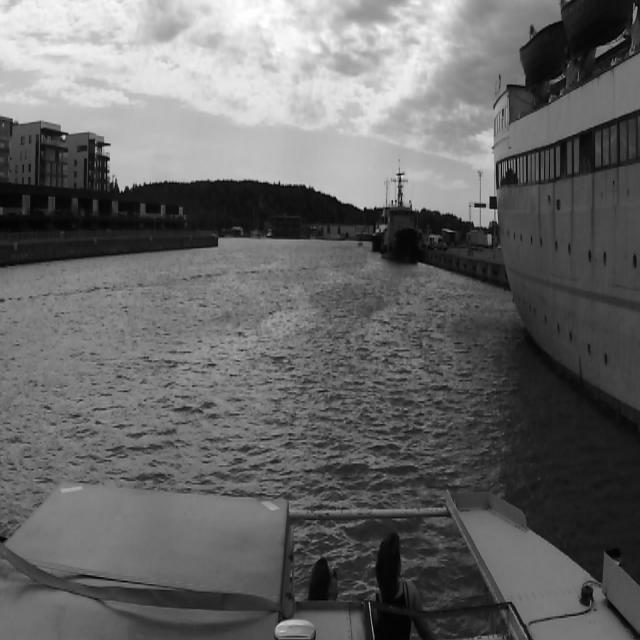ship: (492, 4, 638, 427), (386, 165, 420, 263)
